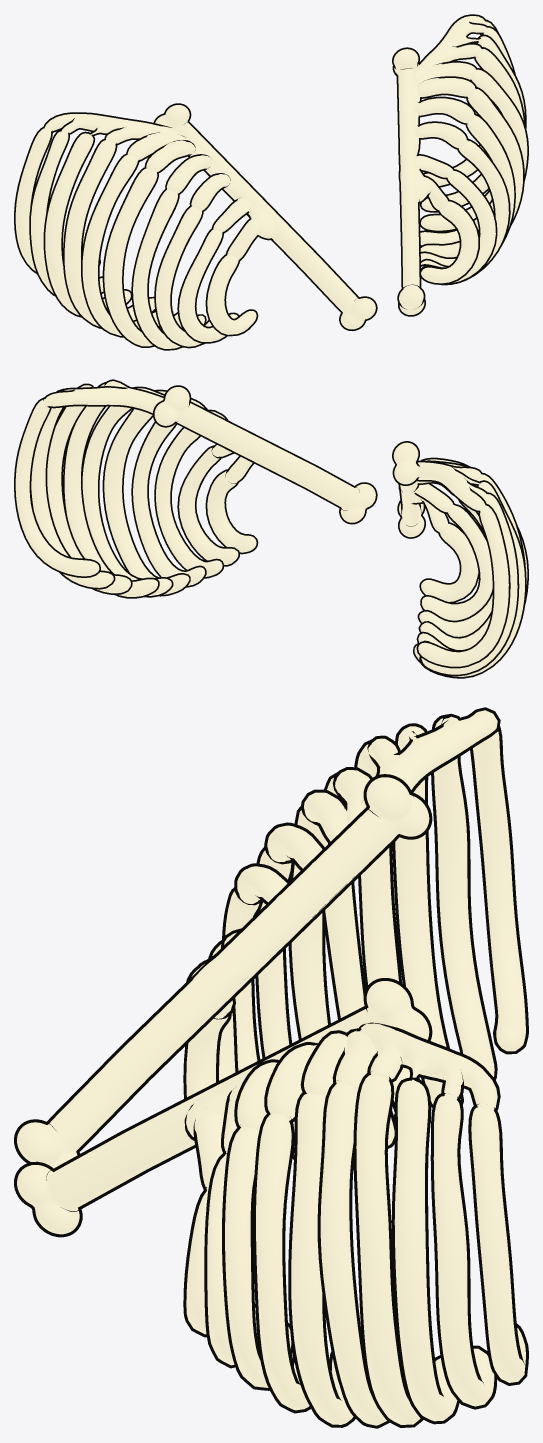
The model's file is BACK.BIOLOGY.SKELETON.glb.
3 renders of one model, top to bottom at view 1: azimuth 30°, elevation 25°; view 2: azimuth 150°, elevation 25°; view 3: azimuth 270°, elevation 25°, orthographic. The views are drawn at different scales.
Parts seen in each view (by area): view 1: BACK.BIOLOGY.SKELETON; view 2: BACK.BIOLOGY.SKELETON; view 3: BACK.BIOLOGY.SKELETON.
Boxes of the visible parts, <box> form: BACK.BIOLOGY.SKELETON: <box>14,14,528,350</box>; BACK.BIOLOGY.SKELETON: <box>14,379,528,678</box>; BACK.BIOLOGY.SKELETON: <box>14,707,528,1428</box>.
Bounding box in the file's own units: 3.38 × 1.47 × 1.67.
